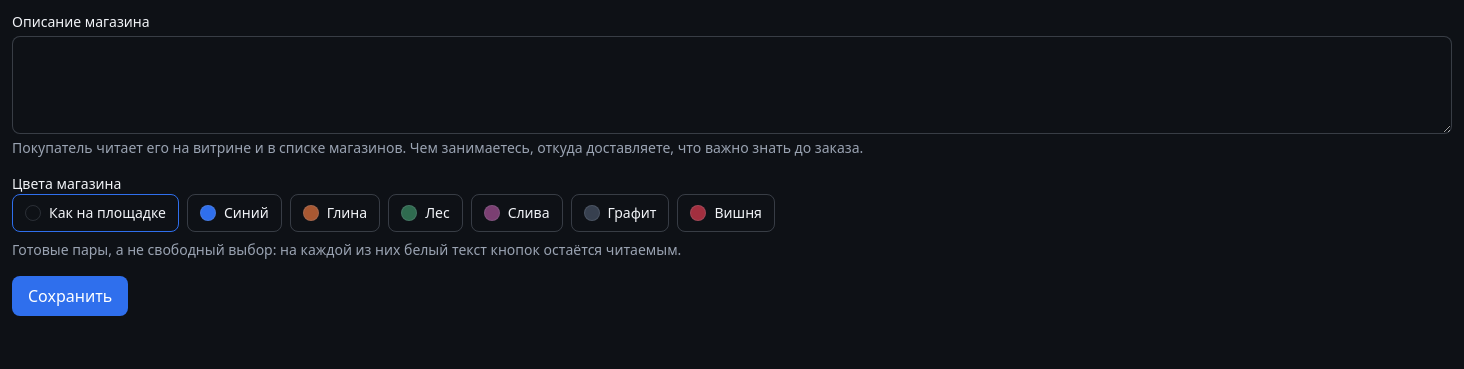
store settings form › shows what the backend refused and does not claim success
Step 1. Click the button "Сохранить" → coordinates (70, 296), box [12, 276, 128, 316]
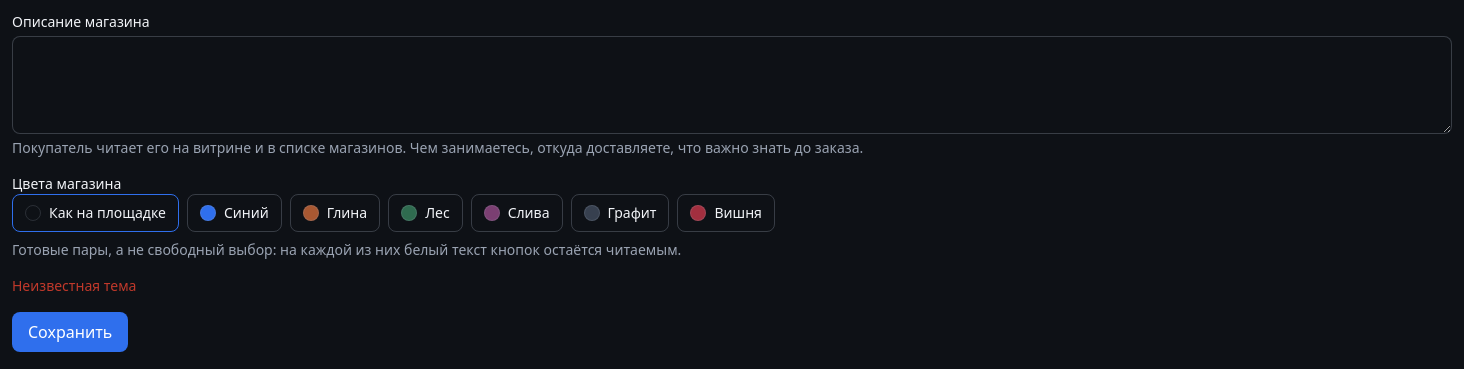
Result: the message reads "Неизвестная тема" at [12, 276, 136, 295]
